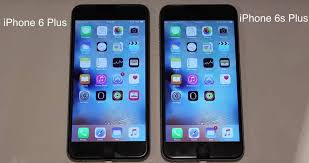iphone: (60, 1, 149, 161), (155, 1, 244, 161)
iphone6: (156, 1, 245, 163), (62, 1, 151, 163)
